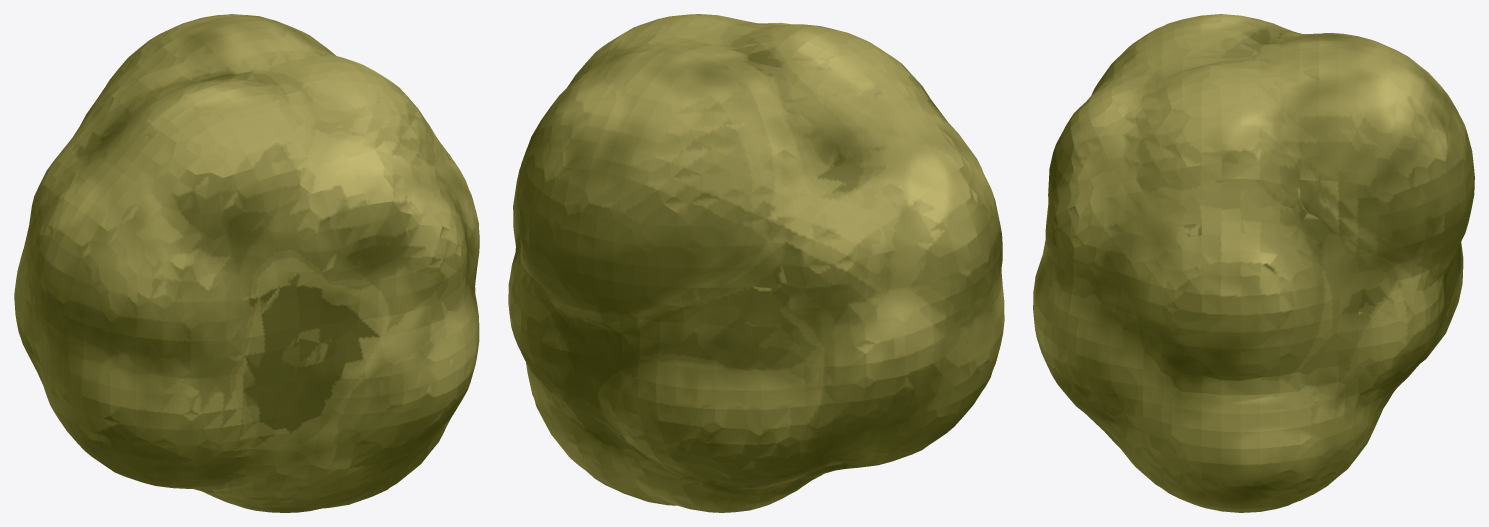
Rendered from rock.glb.
The picture shows the model from 3 angles, left to right: view 1: azimuth 30°, elevation 25°; view 2: azimuth 150°, elevation 25°; view 3: azimuth 270°, elevation 25°; orthographic projection. The views are drawn at different scales.
Parts seen in each view (by area): view 1: Sphere.001; view 2: Sphere.001; view 3: Sphere.001.
Part boxes in pixels (bbox=[...]): Sphere.001: bbox=[14, 14, 479, 512]; Sphere.001: bbox=[508, 14, 1004, 512]; Sphere.001: bbox=[1033, 14, 1474, 512].
Size of the model in its own units: 1.1 by 1.14 by 1.05.
Materials: 1 (1 with a texture image).
